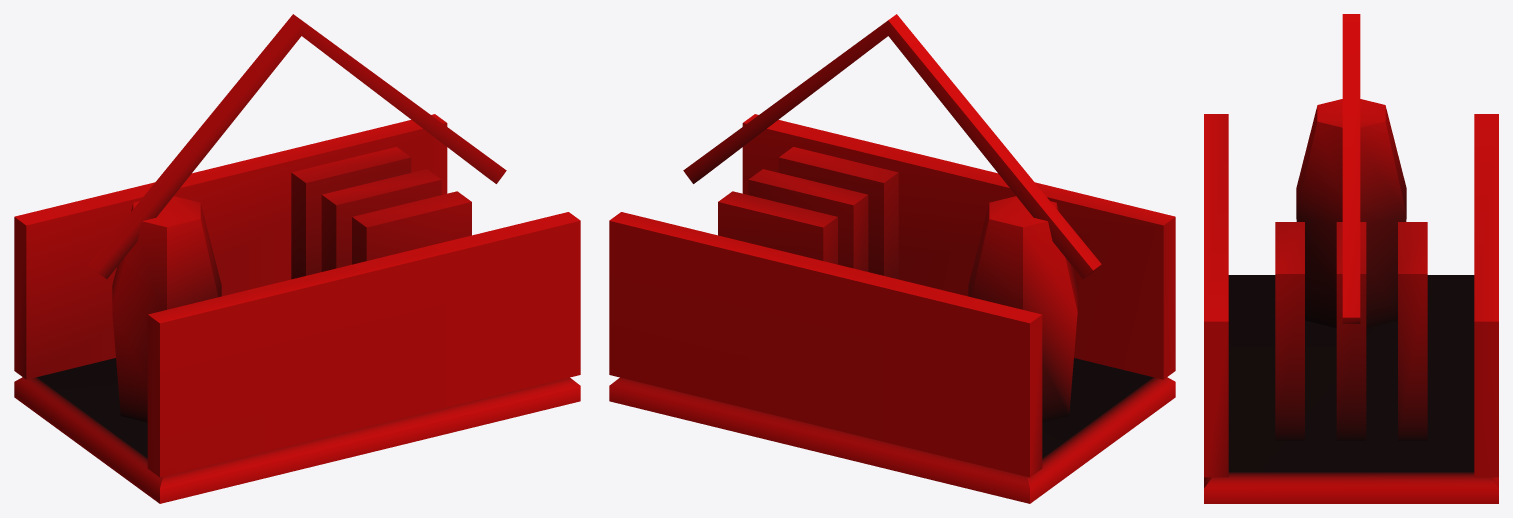
The model's file is CI_Cafe_CondimentCaddy.glb.
3 renders of one model, left to right at view 1: azimuth 30°, elevation 25°; view 2: azimuth 150°, elevation 25°; view 3: azimuth 270°, elevation 25°, orthographic.
Parts seen in each view (by area): view 1: CI_Cafe_CondimentCaddy; view 2: CI_Cafe_CondimentCaddy; view 3: CI_Cafe_CondimentCaddy.
Boxes of the visible parts, x1,y1,x2,y2 form: CI_Cafe_CondimentCaddy: (14,14,580,503); CI_Cafe_CondimentCaddy: (609,14,1175,503); CI_Cafe_CondimentCaddy: (1204,14,1498,503).
Size of the model in its own units: 0.2 by 0.1735 by 0.12.
